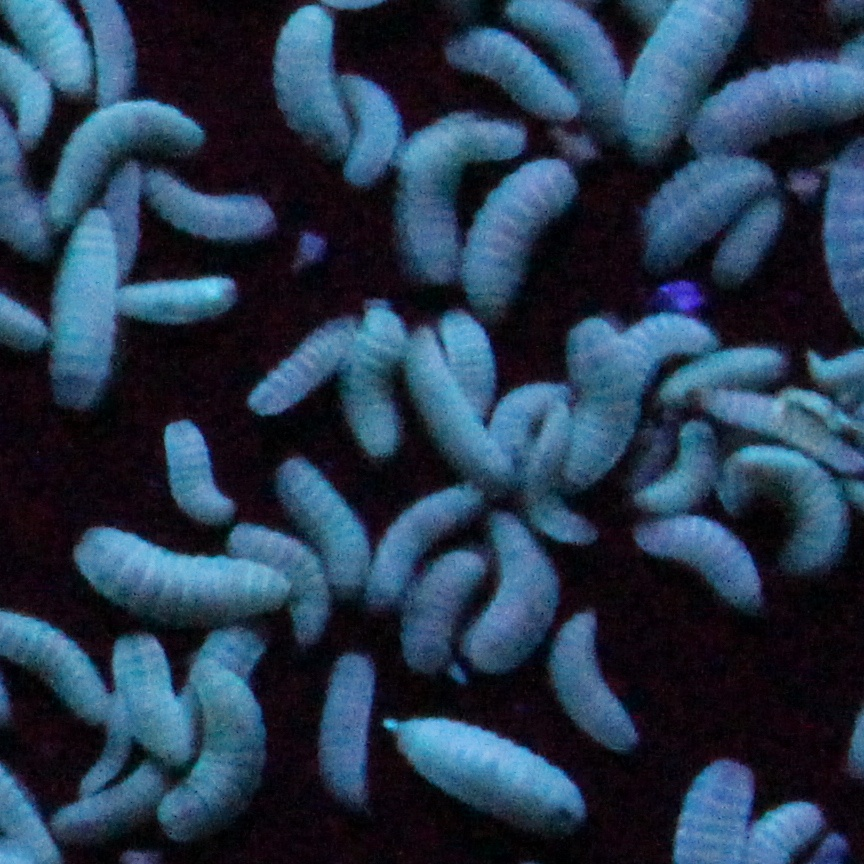larve: (560, 310, 710, 491), (389, 714, 585, 831), (41, 102, 204, 226), (70, 526, 289, 617), (706, 447, 853, 574), (160, 664, 266, 835), (403, 329, 518, 485), (470, 157, 573, 324), (41, 207, 120, 409), (468, 512, 553, 676), (554, 604, 637, 759), (375, 488, 484, 605), (397, 547, 489, 674), (275, 4, 351, 157), (641, 519, 766, 610), (277, 460, 361, 591), (246, 316, 358, 414), (108, 638, 189, 767), (342, 304, 408, 459), (316, 645, 373, 812), (146, 172, 277, 240), (163, 424, 237, 519), (339, 72, 401, 185), (718, 191, 784, 286), (118, 274, 239, 322)
